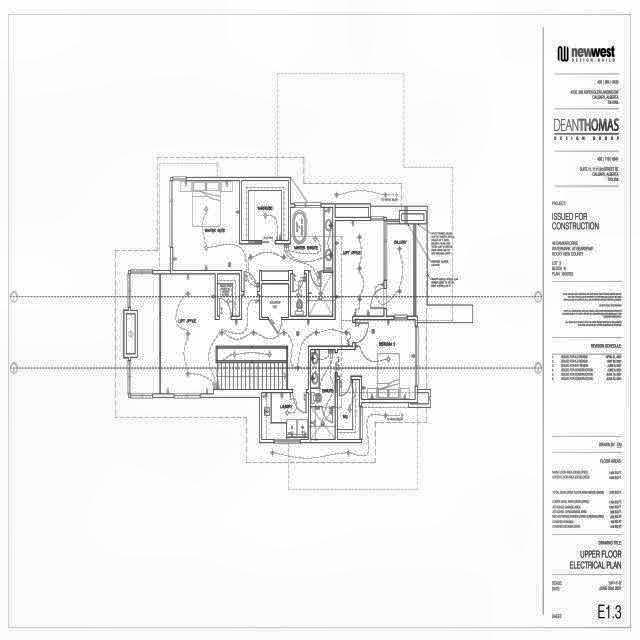room: (148, 163, 361, 322), (337, 320, 415, 399), (242, 181, 288, 240), (311, 350, 335, 439), (262, 393, 308, 439), (337, 380, 360, 439), (217, 274, 239, 316), (262, 284, 288, 317), (291, 274, 306, 316)
